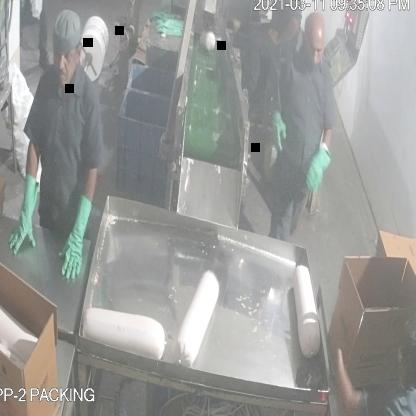glove: (55, 182, 94, 287), (11, 177, 38, 259), (296, 140, 330, 196)
